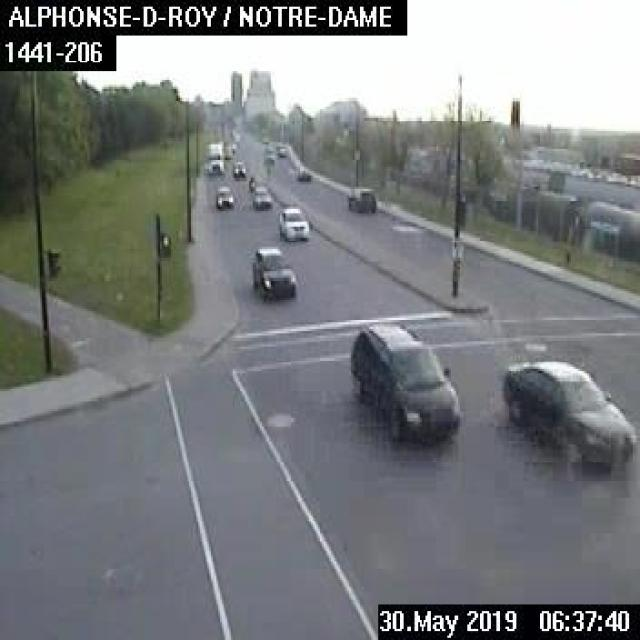vehicle: (500, 356, 638, 464), (349, 320, 461, 442), (250, 246, 294, 298), (276, 205, 307, 240), (348, 185, 377, 211), (202, 138, 222, 174), (250, 183, 271, 209), (215, 184, 232, 208), (232, 159, 244, 176), (293, 168, 309, 180), (261, 151, 273, 164), (247, 175, 254, 191)
